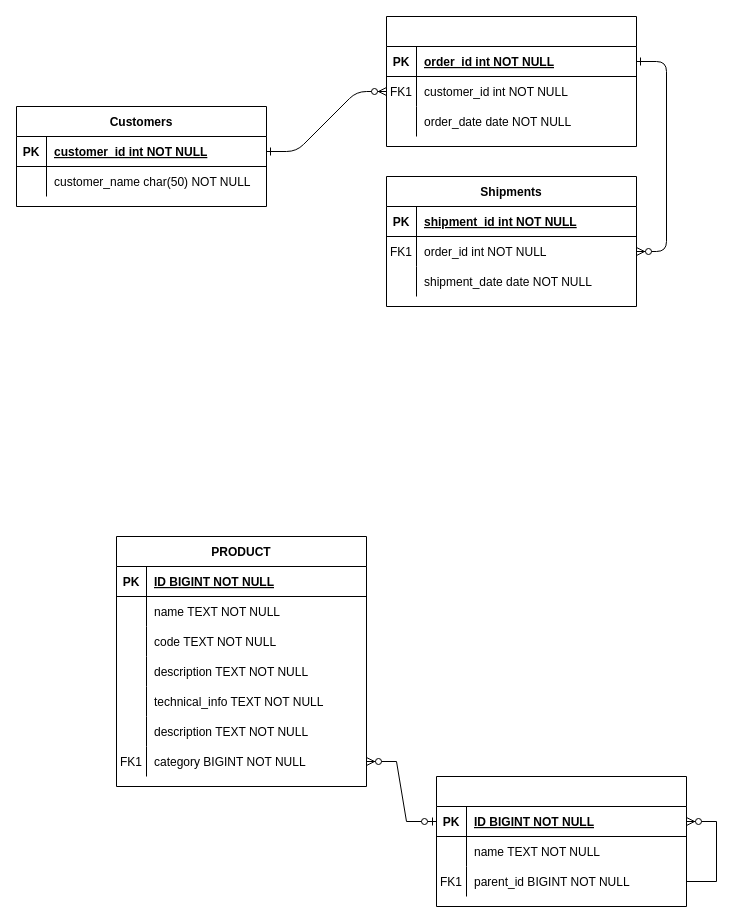
Some shapes in this 733 by 923 pixel diagram are drawn without their labels. Each missing label, with the box of its shape:
CATEGORY: (436, 776, 686, 906)
Orders: (386, 16, 636, 146)
